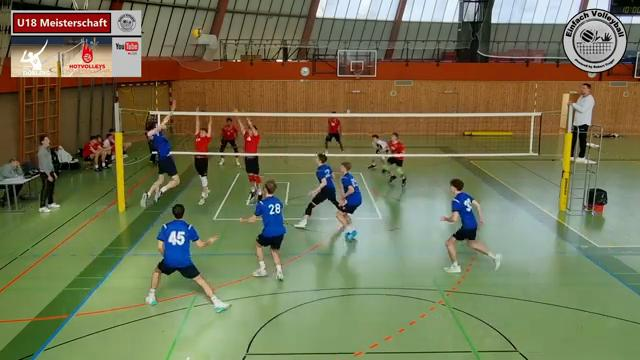Attack: (137, 98, 182, 209)
Block: (233, 105, 266, 209), (189, 106, 214, 210)
Player: (145, 204, 229, 311), (441, 179, 501, 272), (241, 180, 285, 280), (294, 153, 338, 228), (336, 162, 361, 240), (383, 132, 405, 186), (325, 116, 343, 153), (219, 118, 238, 153), (372, 134, 388, 153)
ball: (191, 27, 202, 39)
